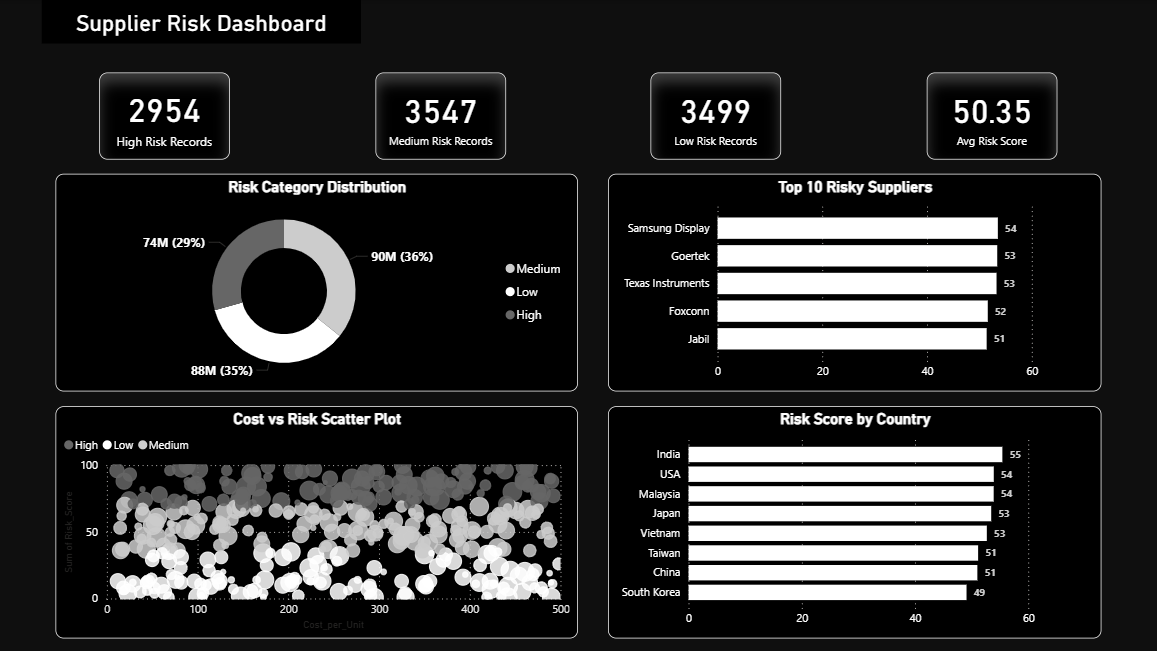

What the dashboard file says about the page in this screenshot:
{"tool":"powerbi","page":{"name":"Supplier Risk Dashboard","canvas":[1280,720],"ordinal":1},"visuals":[{"type":"card","fields":{"Values":["apple_supplier_dataset_10000.High Risk Suppliers"]},"box":[112,80,144,96],"z":0},{"type":"card","fields":{"Values":["apple_supplier_dataset_10000.Medium Risk Suppliers"]},"box":[416,80,144,96],"z":1000},{"type":"card","fields":{"Values":["apple_supplier_dataset_10000.Low Risk Suppliers"]},"box":[720,80,144,96],"z":2000},{"type":"card","fields":{"Values":["apple_supplier_dataset_10000.Avg Risk Score"]},"box":[1024,80,144,96],"z":3000},{"type":"donutChart","title":"Risk Category Distribution","fields":{"Y":["Sum(apple_supplier_dataset_10000.Supply_Volume)"],"Category":["apple_supplier_dataset_10000.Risk Category"]},"box":[64,192,576,240],"z":4000},{"type":"clusteredBarChart","title":"Top 10 Risky Suppliers","fields":{"Category":["apple_supplier_dataset_10000.Supplier_Name"],"Y":["apple_supplier_dataset_10000.Avg Risk Score"]},"box":[672,192,544,240],"z":5000},{"type":"scatterChart","title":"Cost vs Risk Scatter Plot","fields":{"Series":["apple_supplier_dataset_10000.Risk Category"],"Y":["Sum(apple_supplier_dataset_10000.Risk_Score)"],"X":["apple_supplier_dataset_10000.Cost_per_Unit"],"Size":["Sum(apple_supplier_dataset_10000.Supply_Volume)"]},"box":[64,448,576,256],"z":6000},{"type":"card","fields":{"Values":["apple_supplier_dataset_10000.II"]},"box":[48,0,352,48],"z":6001},{"type":"clusteredBarChart","title":"Risk Score by Country","fields":{"Category":["apple_supplier_dataset_10000.Country"],"Y":["apple_supplier_dataset_10000.Avg Risk Score"]},"box":[672,448,544,256],"z":6002}]}

Visuals, with their boxes in screenshot pixels (x1, y1, x2, y2), scaled from the page's 1280x720 canvas onto the 1157x651 screenshot:
card - apple_supplier_dataset_10000.High Risk Suppliers: 101/72/231/159
card - apple_supplier_dataset_10000.Medium Risk Suppliers: 376/72/506/159
card - apple_supplier_dataset_10000.Low Risk Suppliers: 651/72/781/159
card - apple_supplier_dataset_10000.Avg Risk Score: 926/72/1056/159
"Risk Category Distribution" donutChart: 58/174/578/391
"Top 10 Risky Suppliers" clusteredBarChart: 607/174/1099/391
"Cost vs Risk Scatter Plot" scatterChart: 58/405/578/637
card - apple_supplier_dataset_10000.II: 43/0/362/43
"Risk Score by Country" clusteredBarChart: 607/405/1099/637
